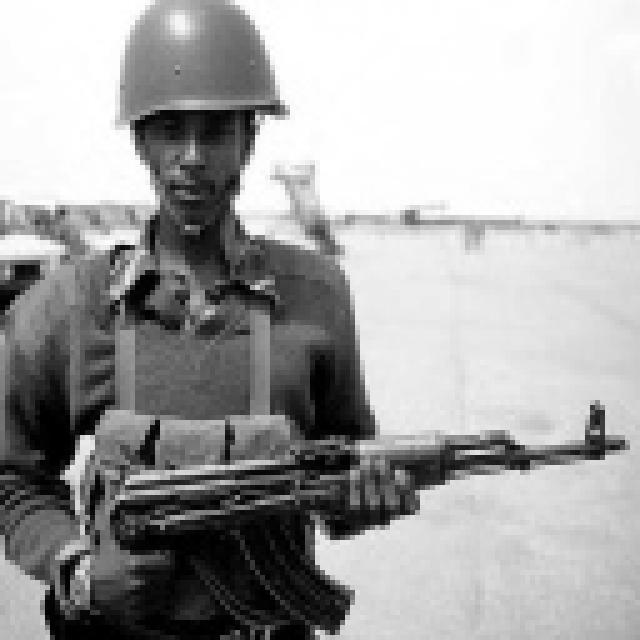Rifle: (80, 380, 640, 595)
